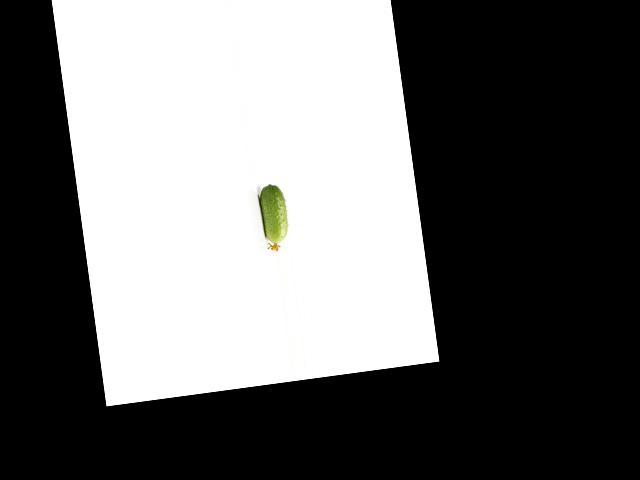cucumber: (256, 181, 291, 251)
